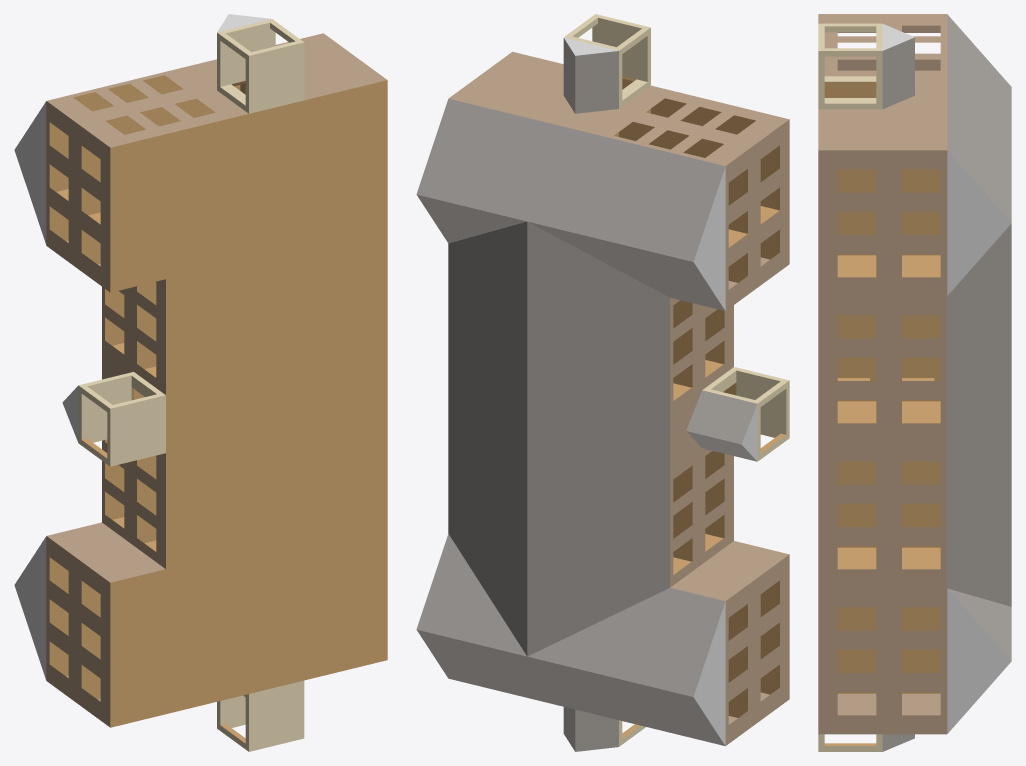
Rendered from Boncraft Hall kind of-2.fbx.
The picture shows the model from 3 angles, left to right: view 1: azimuth 30°, elevation 25°; view 2: azimuth 150°, elevation 25°; view 3: azimuth 270°, elevation 25°; orthographic projection.
Visible parts, largest first — view 1: imagetostl_mesh80, imagetostl_mesh108, imagetostl_mesh87, imagetostl_mesh144, imagetostl_mesh145, imagetostl_mesh146, imagetostl_mesh148, imagetostl_mesh83, imagetostl_mesh107, imagetostl_mesh105, imagetostl_mesh102, imagetostl_mesh115 (+34 smaller); view 2: imagetostl_mesh191, imagetostl_mesh74, imagetostl_mesh173, imagetostl_mesh67, imagetostl_mesh68, imagetostl_mesh72, imagetostl_mesh69, imagetostl_mesh115, imagetostl_mesh114, imagetostl_mesh25, imagetostl_mesh117, imagetostl_mesh188 (+33 smaller); view 3: imagetostl_mesh74, imagetostl_mesh173, imagetostl_mesh153, imagetostl_mesh156, imagetostl_mesh157, imagetostl_mesh158, imagetostl_mesh154, imagetostl_mesh155, imagetostl_mesh159, imagetostl_mesh160, imagetostl_mesh64, imagetostl_mesh70 (+33 smaller).
Boxes of the visible parts, x1,y1,x2,y2 form: imagetostl_mesh80: [249, 100, 304, 693]; imagetostl_mesh108: [110, 549, 248, 727]; imagetostl_mesh87: [110, 114, 248, 240]; imagetostl_mesh144: [304, 370, 387, 535]; imagetostl_mesh145: [304, 515, 387, 680]; imagetostl_mesh146: [304, 80, 387, 245]; imagetostl_mesh148: [304, 225, 387, 390]; imagetostl_mesh83: [166, 236, 248, 394]; imagetostl_mesh107: [166, 433, 248, 568]; imagetostl_mesh105: [110, 214, 221, 292]; imagetostl_mesh102: [166, 375, 248, 452]; imagetostl_mesh115: [46, 536, 78, 703]; imagetostl_mesh191: [527, 222, 669, 656]; imagetostl_mesh74: [448, 221, 527, 655]; imagetostl_mesh173: [416, 98, 725, 261]; imagetostl_mesh67: [417, 630, 725, 746]; imagetostl_mesh68: [528, 587, 725, 696]; imagetostl_mesh72: [416, 534, 526, 656]; imagetostl_mesh69: [528, 222, 724, 310]; imagetostl_mesh115: [725, 578, 757, 745]; imagetostl_mesh114: [757, 554, 789, 722]; imagetostl_mesh25: [619, 85, 788, 142]; imagetostl_mesh117: [587, 109, 756, 165]; imagetostl_mesh188: [449, 75, 562, 118]; imagetostl_mesh74: [947, 223, 1011, 606]; imagetostl_mesh173: [947, 14, 1011, 222]; imagetostl_mesh153: [882, 150, 947, 296]; imagetostl_mesh156: [882, 588, 947, 734]; imagetostl_mesh157: [882, 296, 947, 442]; imagetostl_mesh158: [882, 442, 947, 588]; imagetostl_mesh154: [818, 150, 882, 296]; imagetostl_mesh155: [818, 588, 882, 734]; imagetostl_mesh159: [818, 296, 882, 442]; imagetostl_mesh160: [818, 442, 882, 588]; imagetostl_mesh64: [947, 589, 1011, 733]; imagetostl_mesh70: [947, 151, 1011, 295].
Size of the model in its own units: 60000 by 144000 by 36000.
